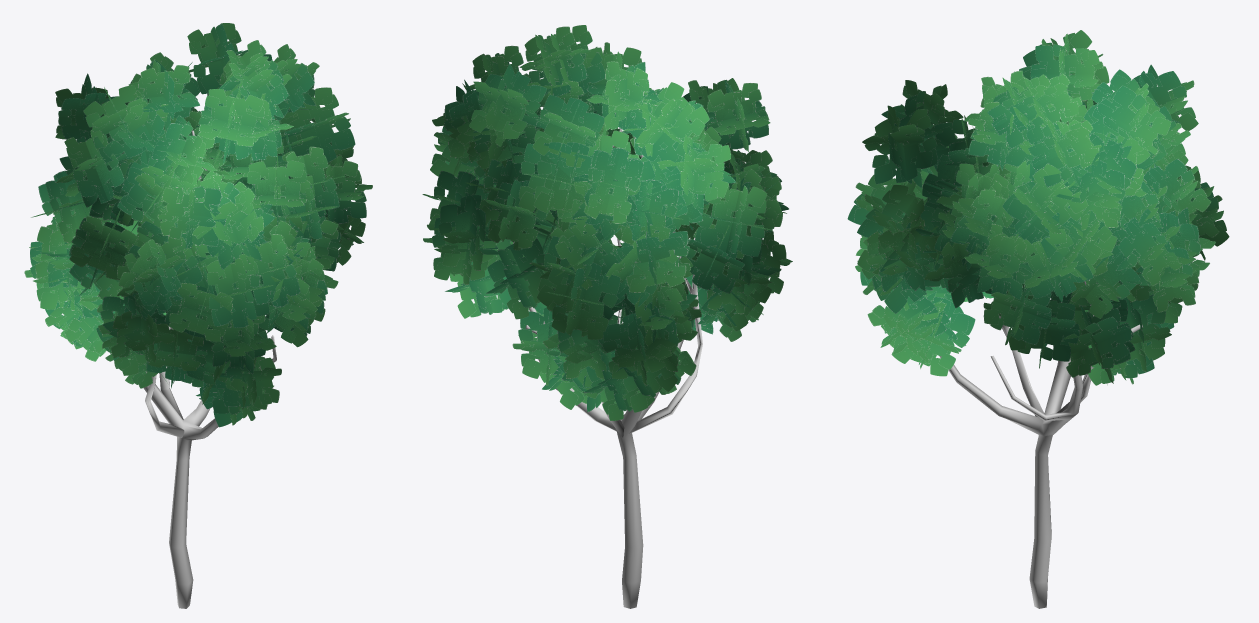
File: TSP_Tree_01A.fbx
3 renders of one model, left to right at view 1: azimuth 30°, elevation 25°; view 2: azimuth 150°, elevation 25°; view 3: azimuth 270°, elevation 25°, orthographic. The views are drawn at different scales.
Visible parts, largest first — view 1: TSP_Tree_01A; view 2: TSP_Tree_01A; view 3: TSP_Tree_01A.
Boxes of the visible parts, x1=… form: TSP_Tree_01A: x1=24, y1=23, x2=372, y2=608; TSP_Tree_01A: x1=422, y1=25, x2=792, y2=608; TSP_Tree_01A: x1=847, y1=30, x2=1229, y2=608.
Size of the model in its own units: 4.92 by 8.05 by 5.17.
